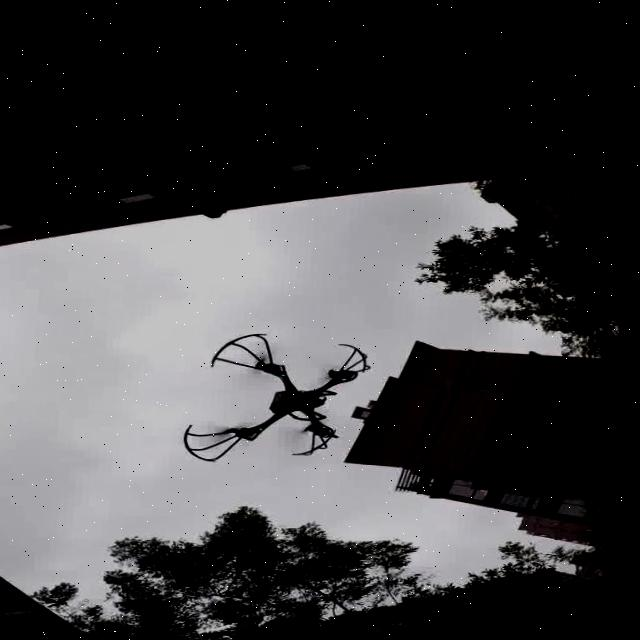drone: (178, 328, 395, 469)
